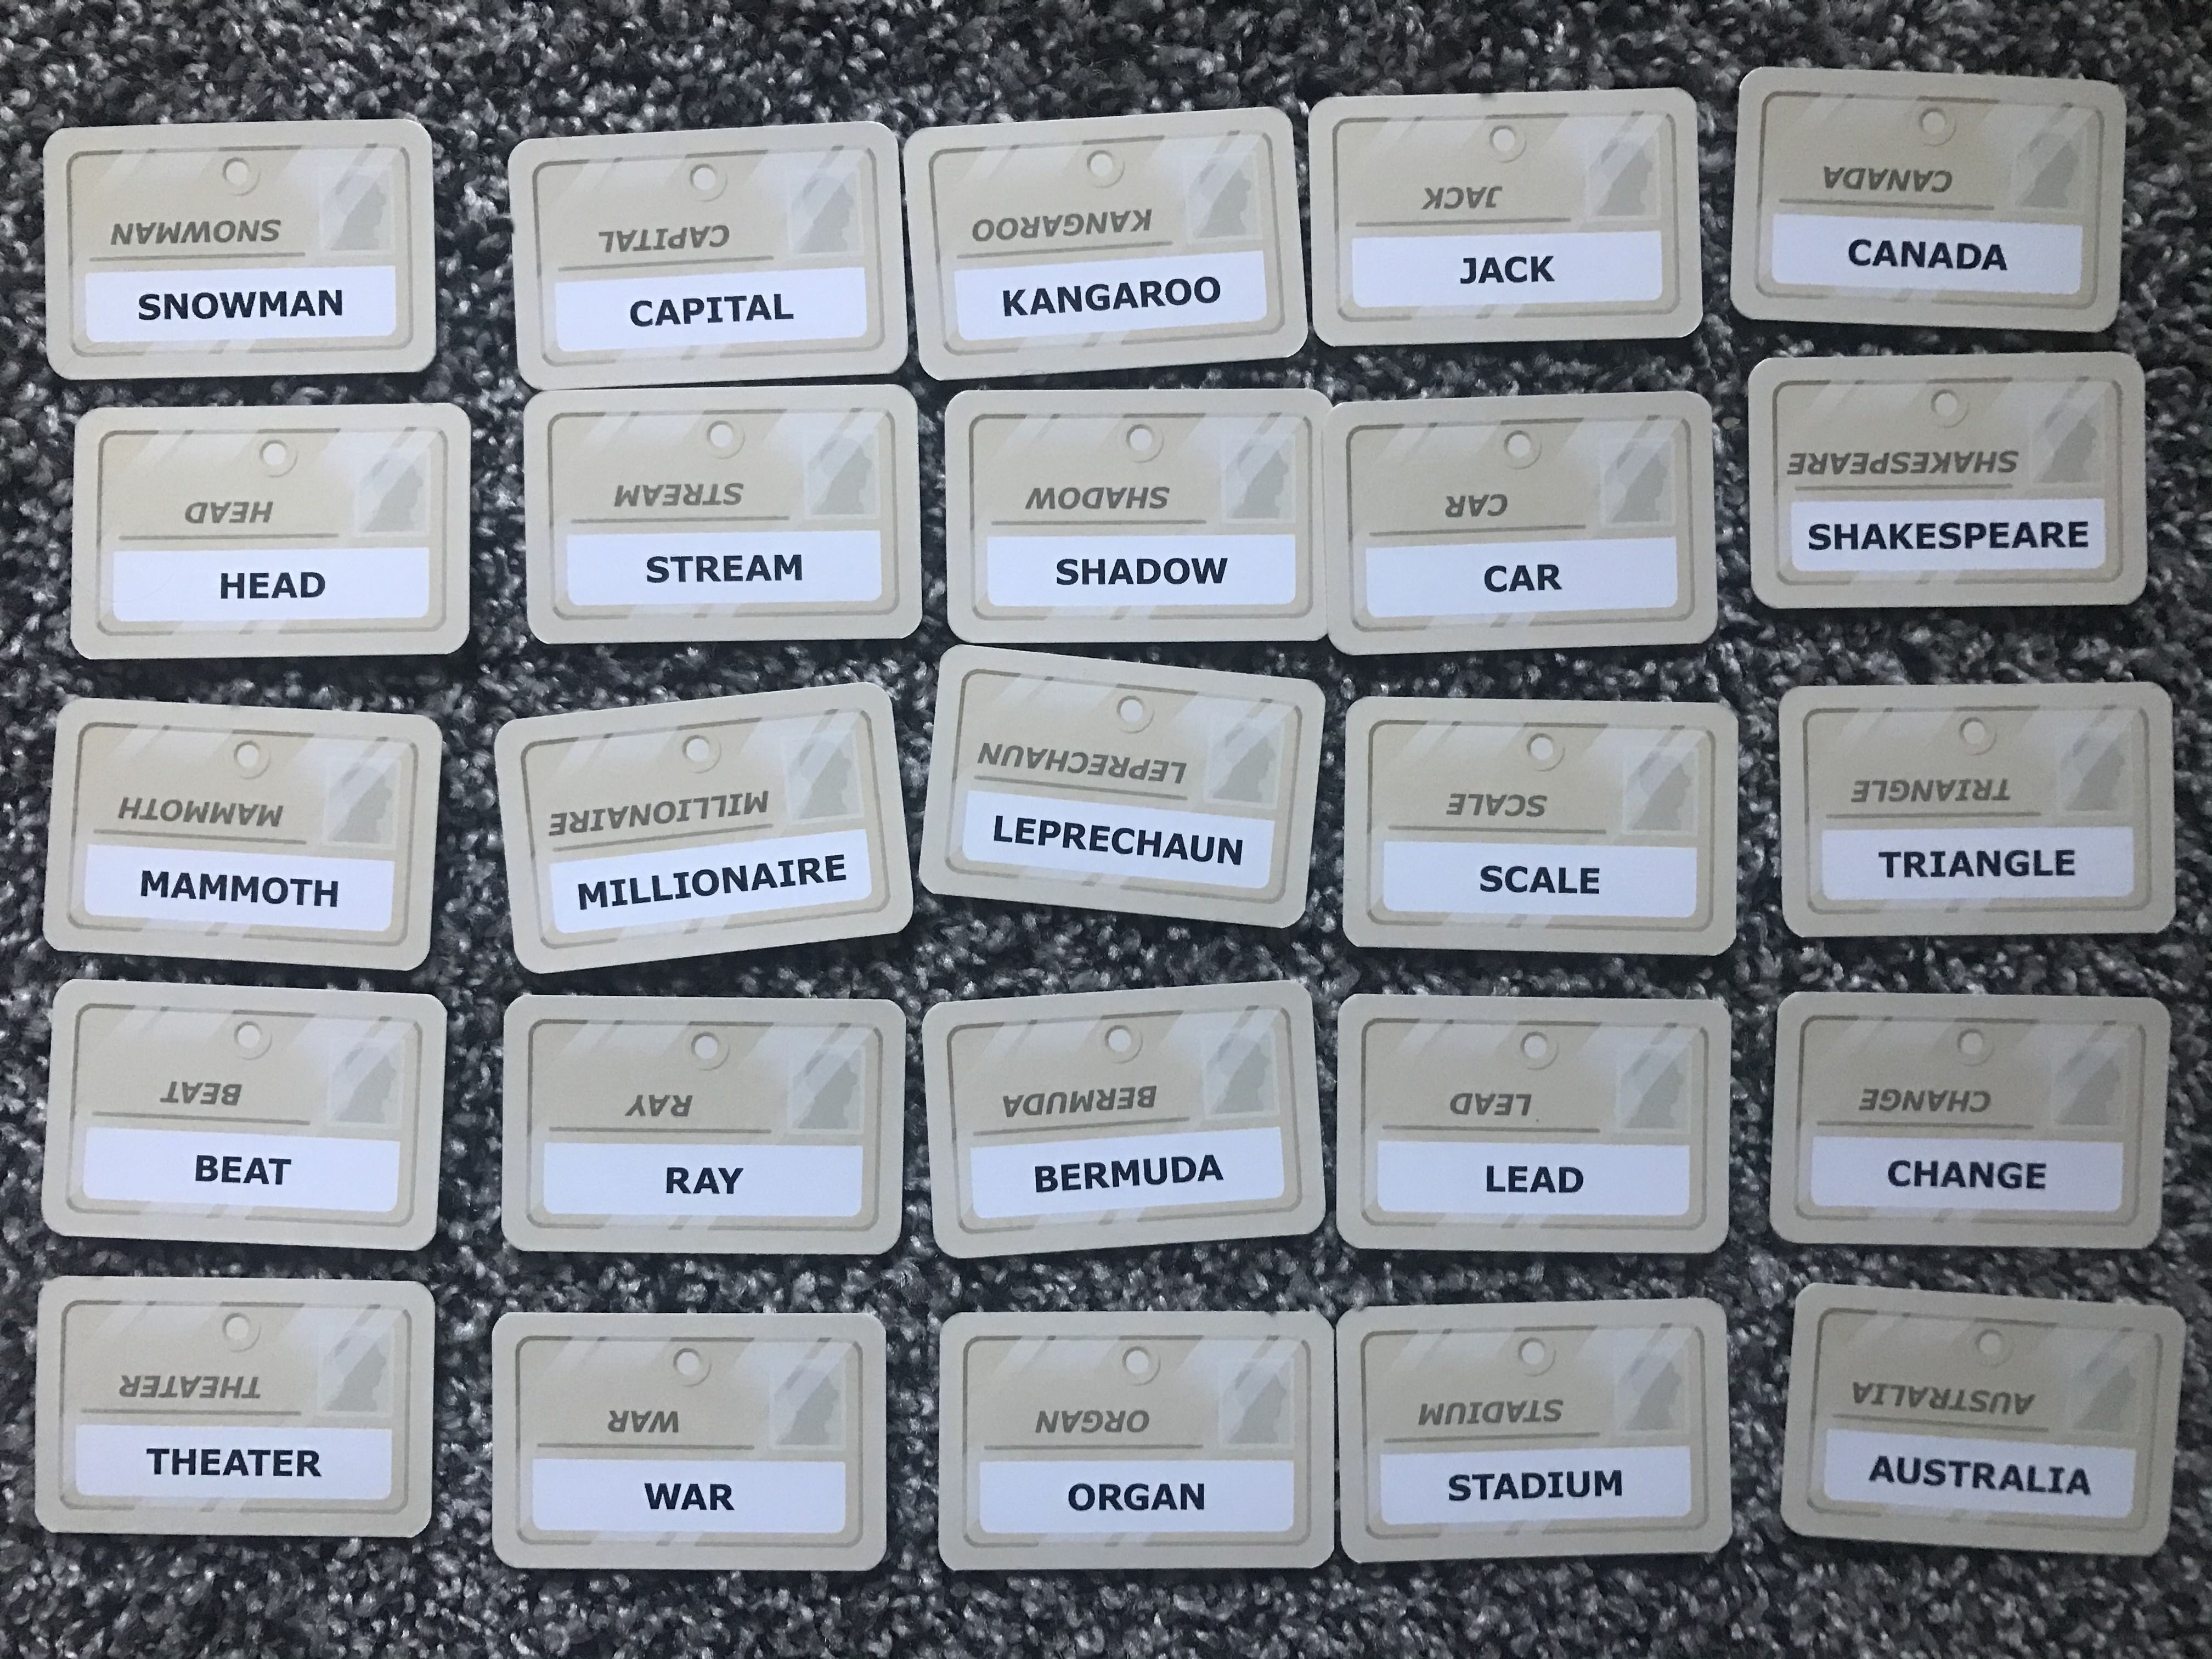A: (1103, 551, 1136, 594), (691, 1161, 723, 1204), (1507, 559, 1540, 599), (1946, 845, 1979, 885), (1980, 239, 2012, 279), (1858, 518, 1890, 556), (1160, 828, 1190, 868), (1939, 1155, 1968, 1195), (291, 284, 317, 329), (1529, 863, 1557, 904), (1871, 235, 1898, 275), (244, 1150, 268, 1195), (1109, 279, 1141, 314), (1491, 1471, 1522, 1506), (1996, 1459, 2022, 1500), (655, 295, 683, 333), (1029, 282, 1055, 322), (1197, 1152, 1226, 1187), (223, 1446, 251, 1483), (1867, 1450, 1895, 1486), (2066, 1464, 2094, 1500), (745, 549, 772, 587), (169, 868, 195, 906), (1531, 1161, 1557, 1199), (1150, 1480, 1176, 1518), (749, 856, 773, 896), (745, 289, 772, 326), (683, 1480, 709, 1516), (1925, 237, 1951, 272), (268, 566, 294, 601), (2012, 518, 2036, 554), (1479, 253, 1501, 288)
